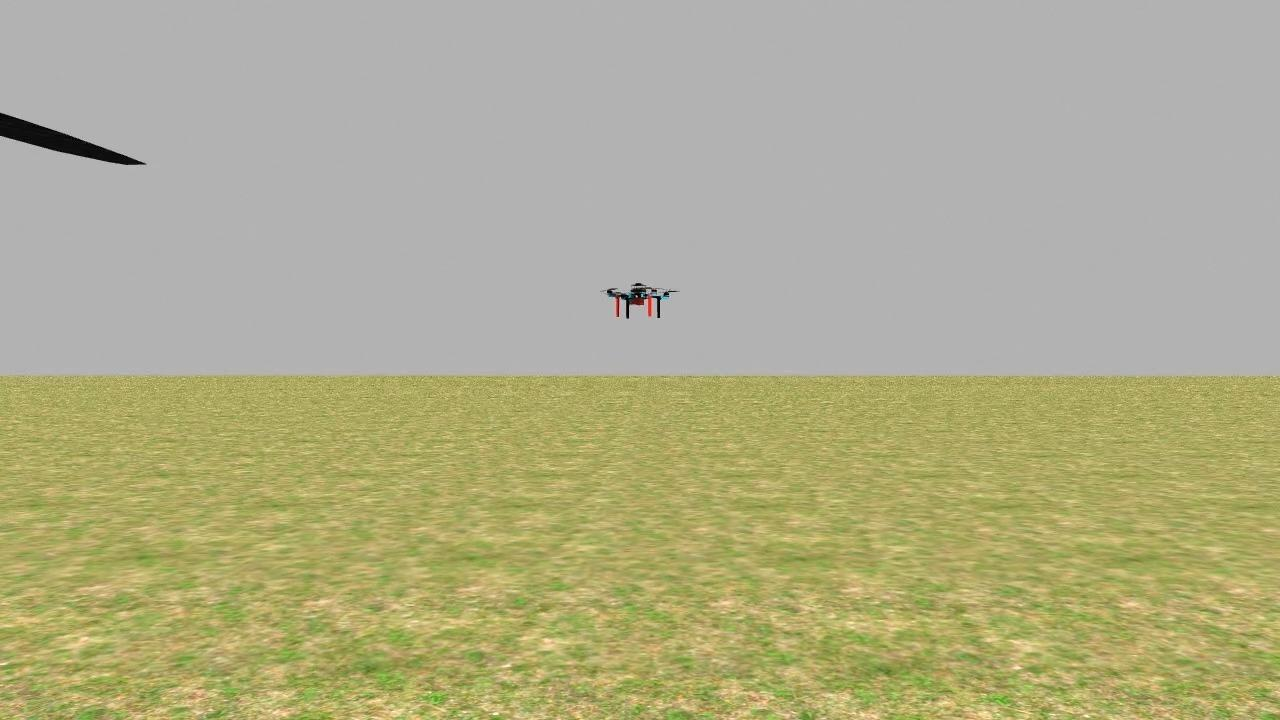UAV: (594, 276, 678, 326)
